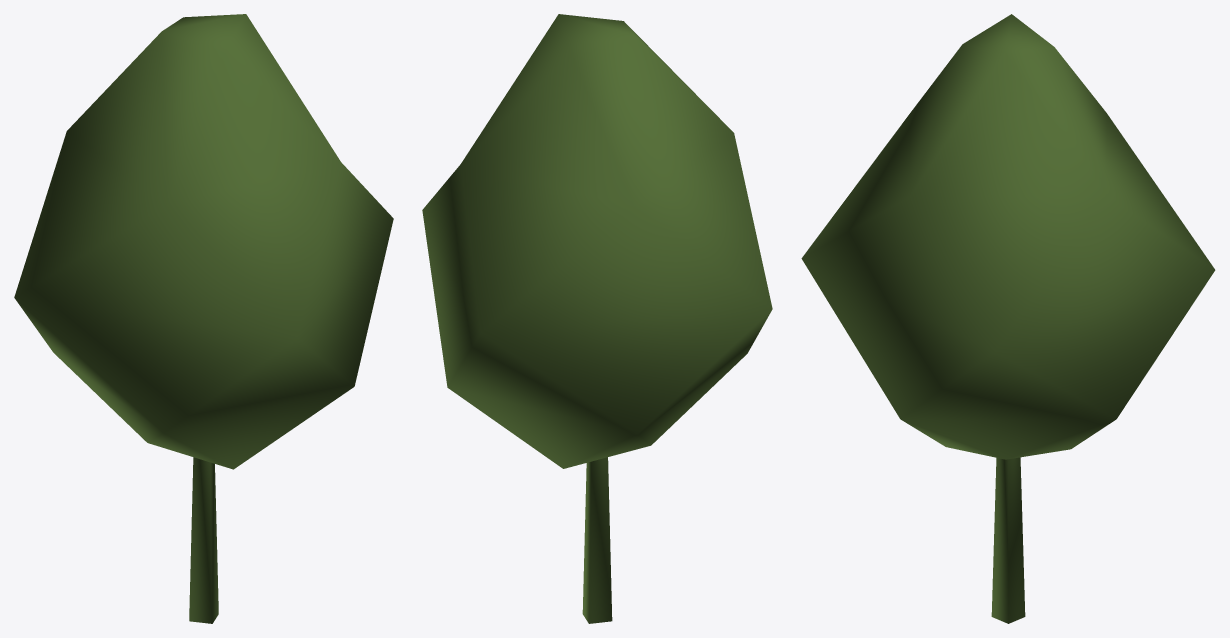
File: d_tree.gltf
The picture shows the model from 3 angles, left to right: view 1: azimuth 30°, elevation 25°; view 2: azimuth 150°, elevation 25°; view 3: azimuth 270°, elevation 25°; orthographic projection.
Parts seen in each view (by area): view 1: Cone; view 2: Cone; view 3: Cone.
Boxes of the visible parts, x1,y1,x2,y2 form: Cone: [14, 14, 393, 623]; Cone: [422, 14, 772, 623]; Cone: [801, 14, 1215, 623].
Size of the model in its own units: 7.3 by 11.35 by 7.3.
